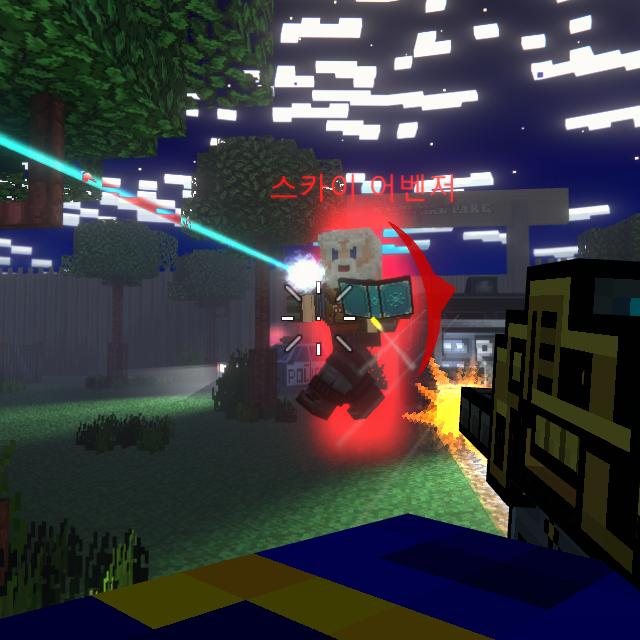Enemy: (287, 228, 415, 421)
